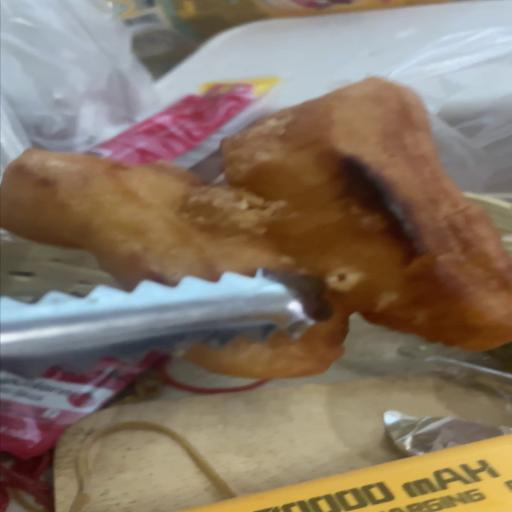street_burnt_defect: (2, 76, 509, 379)
